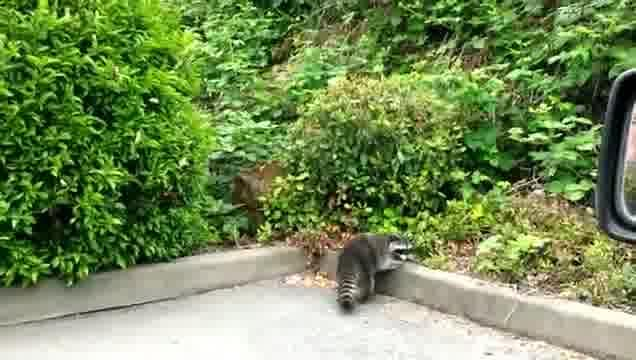raccoon: (336, 232, 410, 312)
